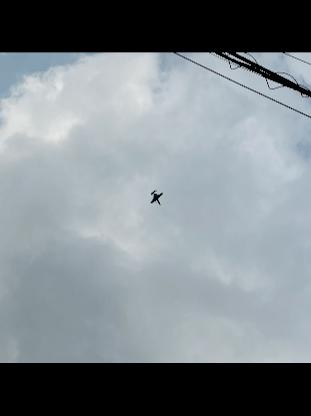A10: (149, 190, 161, 206)
